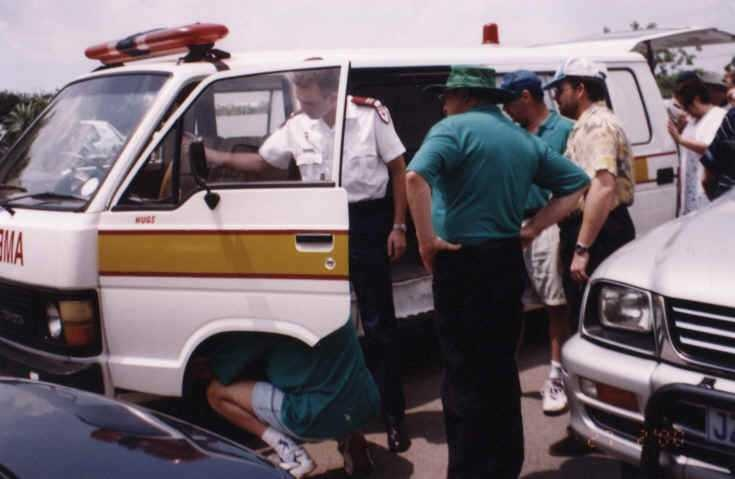Ambulance: (17, 26, 689, 400)
